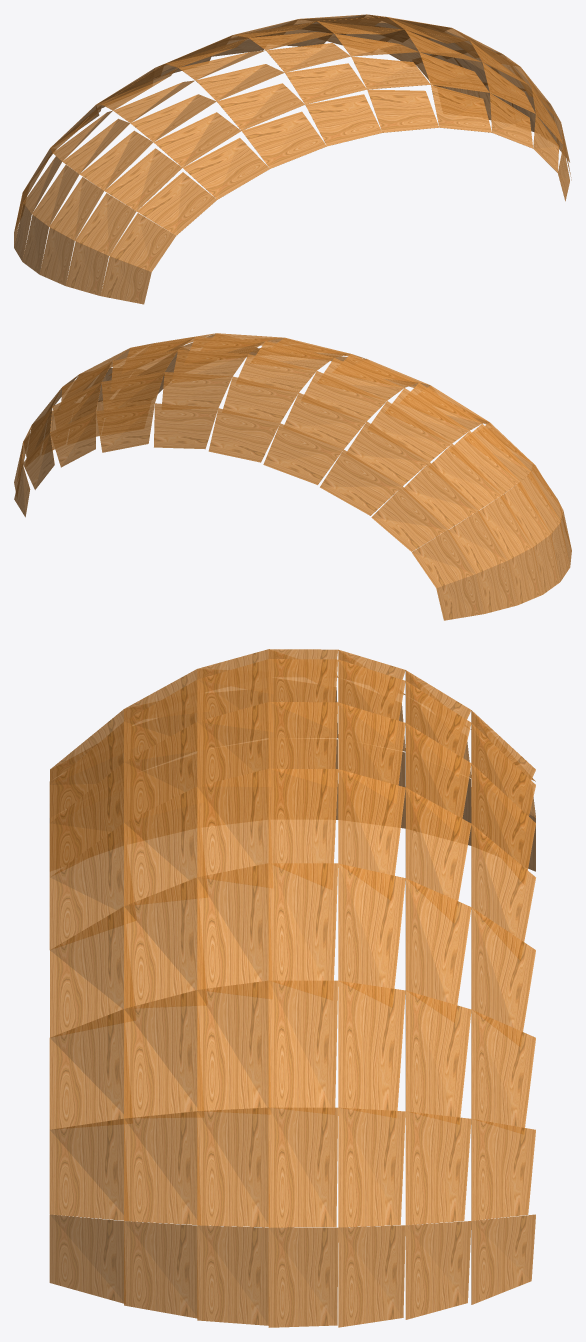
The model's file is screen003.glb.
The picture shows the model from 3 angles, top to bottom: view 1: azimuth 30°, elevation 25°; view 2: azimuth 150°, elevation 25°; view 3: azimuth 270°, elevation 25°; orthographic projection. The views are drawn at different scales.
Parts seen in each view (by area): view 1: [0]; view 2: [0]; view 3: [0].
Part boxes in pixels (x1,y1,x2,y2): [0]: [14, 14, 571, 304]; [0]: [14, 333, 571, 620]; [0]: [49, 649, 535, 1327].
Size of the model in its own units: 4.76 by 1.49 by 1.93.
Materials: 1 (1 with a texture image).
